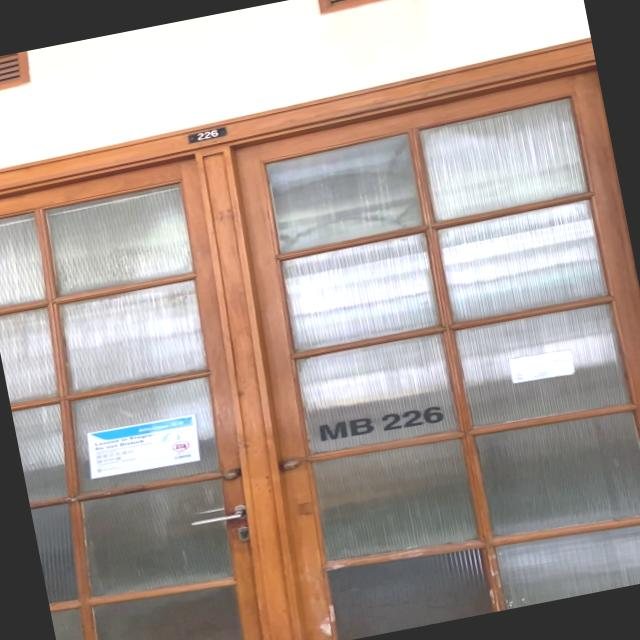room226: (186, 124, 228, 145)
room226Window: (312, 396, 453, 449)
